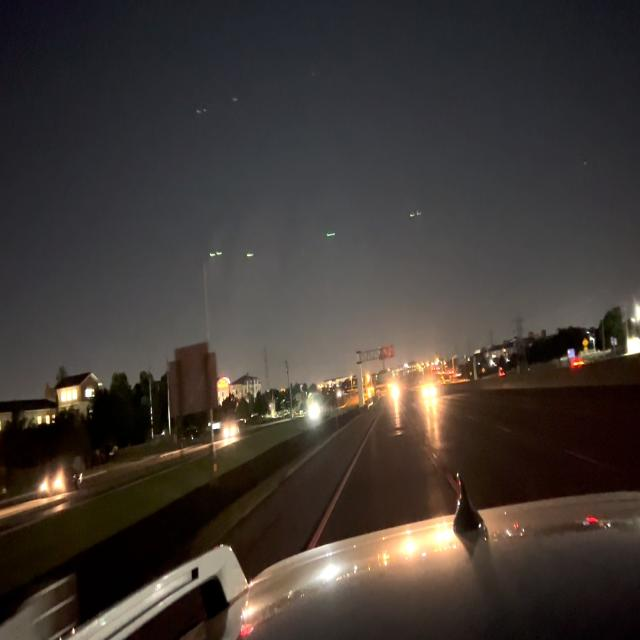back-of-sign: (170, 338, 221, 423)
